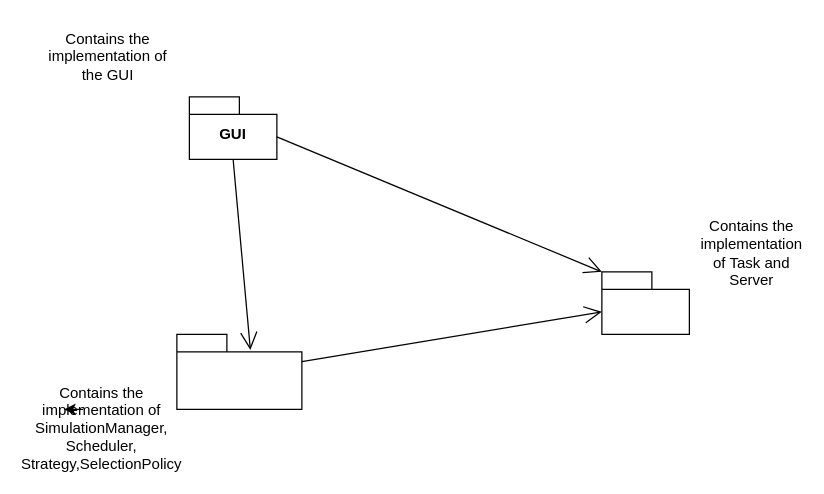
This 824x494 diagram has some shape labels left out. The centre of each missing label's shape, as x and y in pixels:
"BusinessLogic" belongs at [239,371].
"Model" belongs at [645,302].
